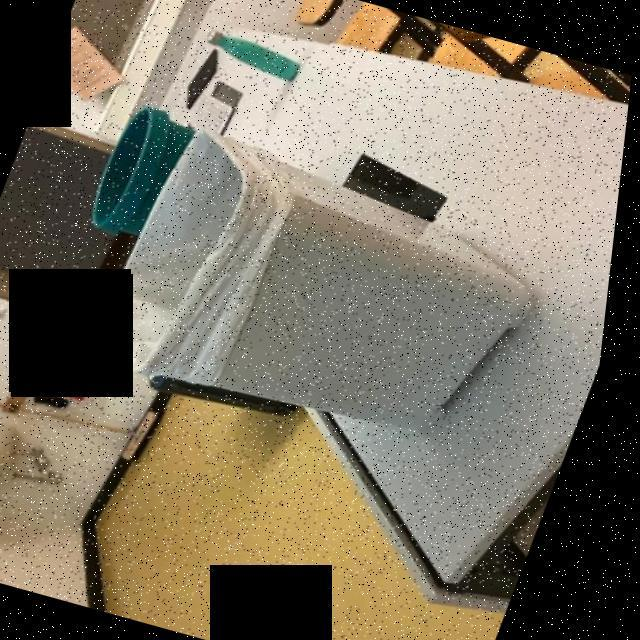bin: (69, 107, 590, 475), (78, 89, 188, 237)
